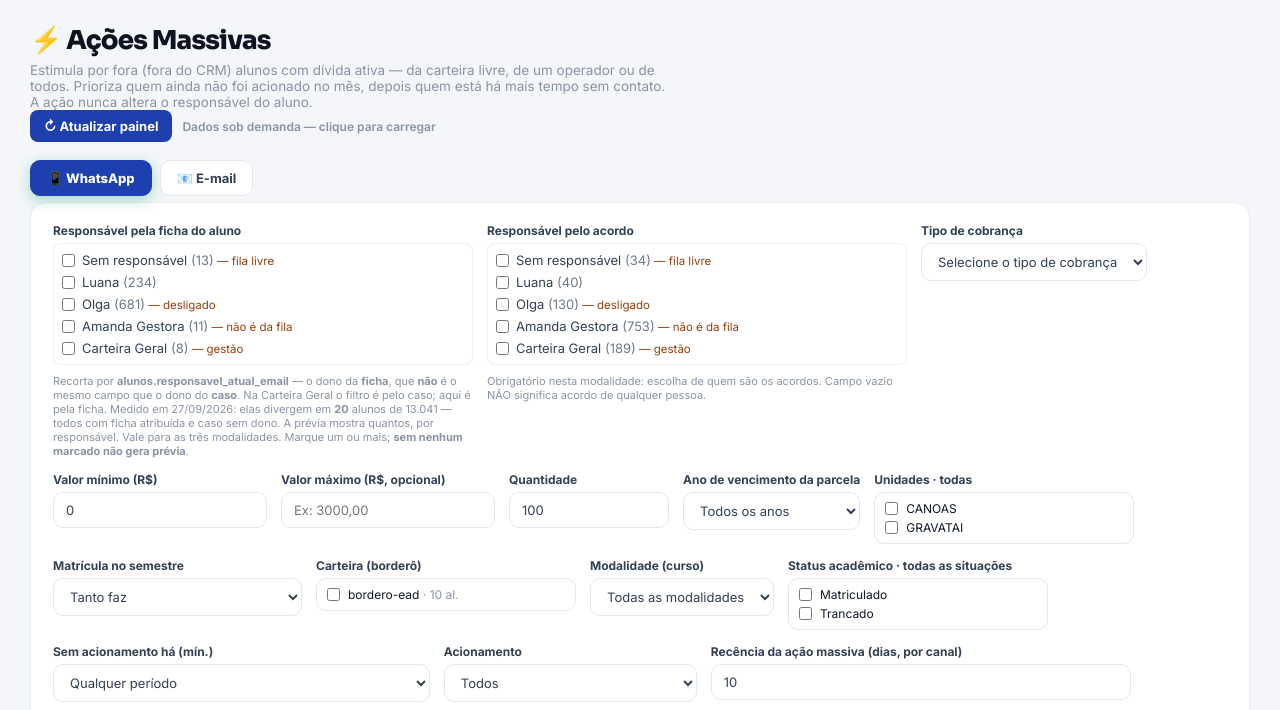
Test case: Ações Massivas — filtro por operador responsável › com operador, a prévia manda o e-mail e mostra qual carteira foi filtrada
The image size is (1280, 710).
Expected: the checkbox labelled "Matriculado" is shown, left=799, top=588, right=812, bottom=601
Expected: the element with test id "resp-caso" is shown, left=53, top=243, right=473, bottom=365
Click the checkbox with id "resp-caso-SEM_RESPONSAVEL": [68, 260] box left=62, top=254, right=75, bottom=266
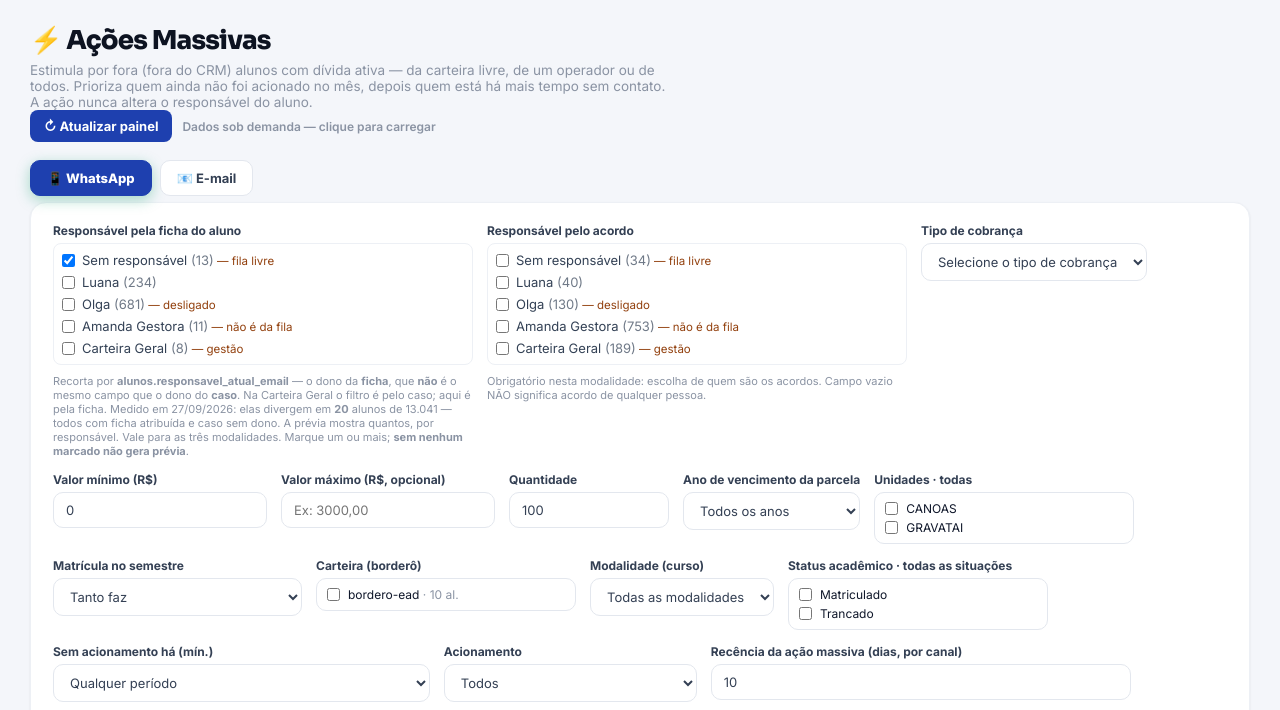
Select "Somente mensalidades" in the dropdown labelled "Tipo de cobrança": [1034, 262] box left=921, top=243, right=1147, bottom=281
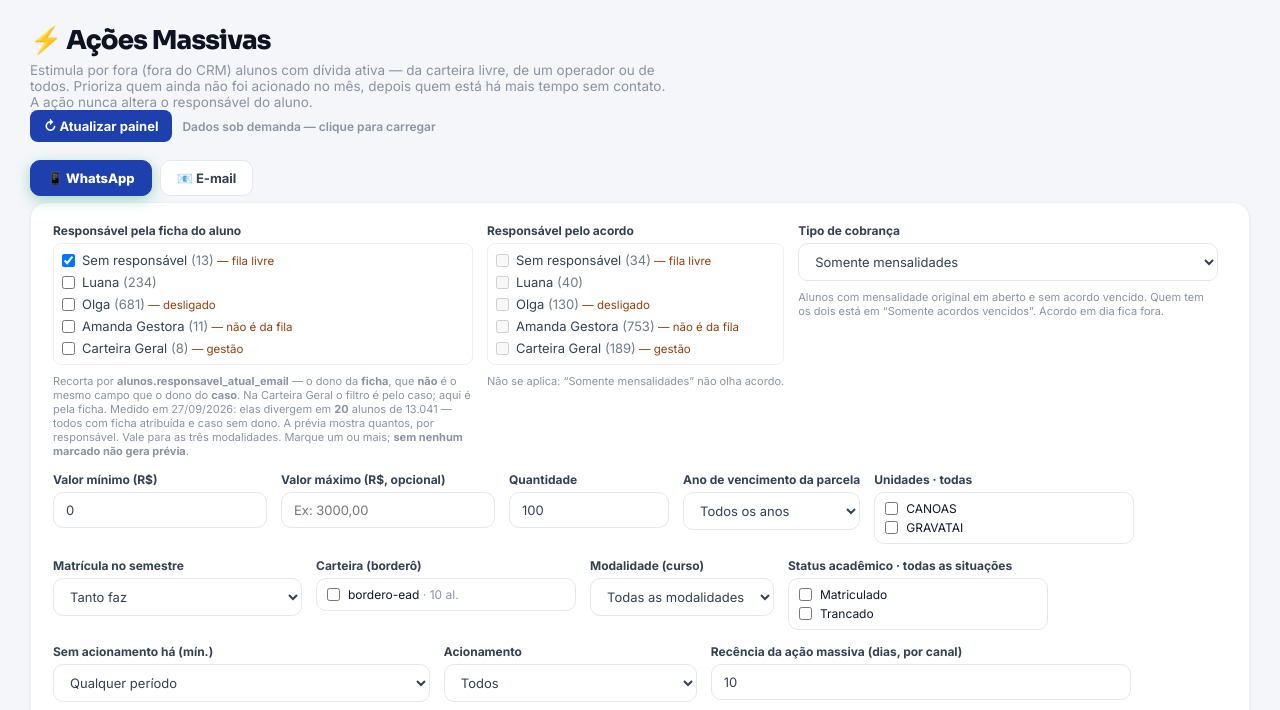
Click the checkbox with id "resp-caso-SEM_RESPONSAVEL": [68, 260] box left=62, top=254, right=75, bottom=266
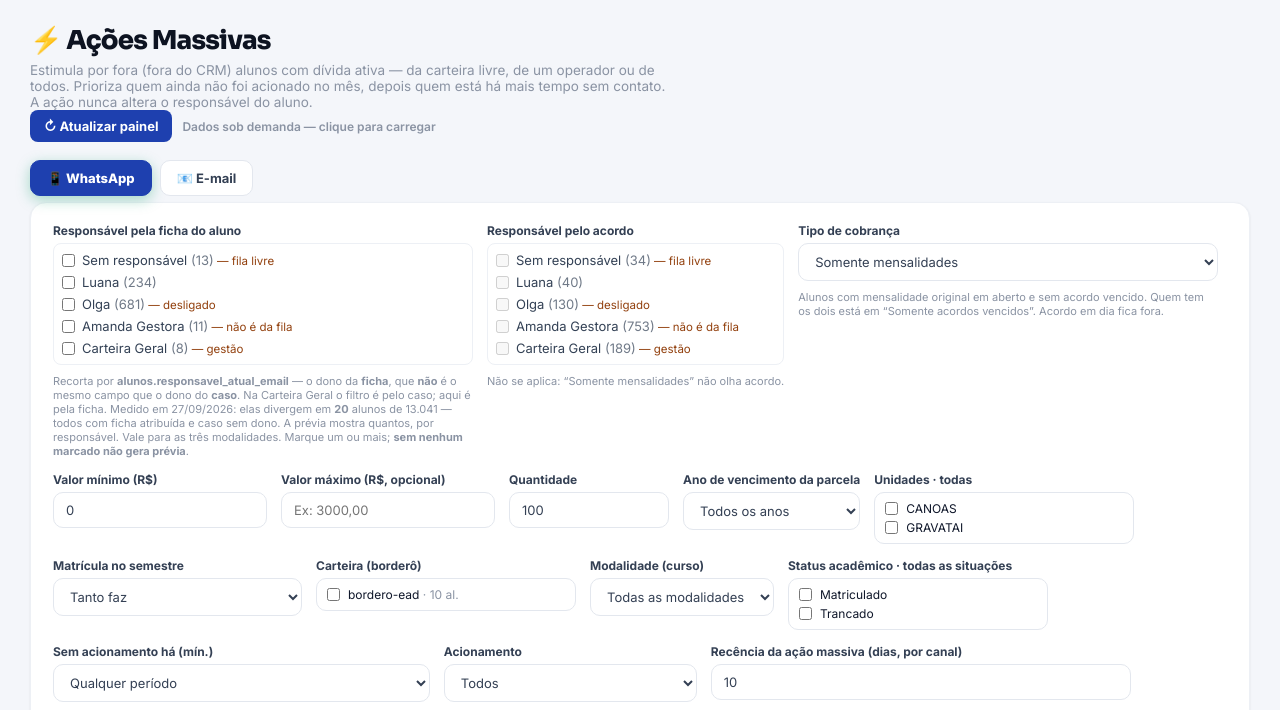
Click the checkbox labelled "Olga (681) — desligado": [68, 304] box left=62, top=298, right=75, bottom=310
(page scrolled)
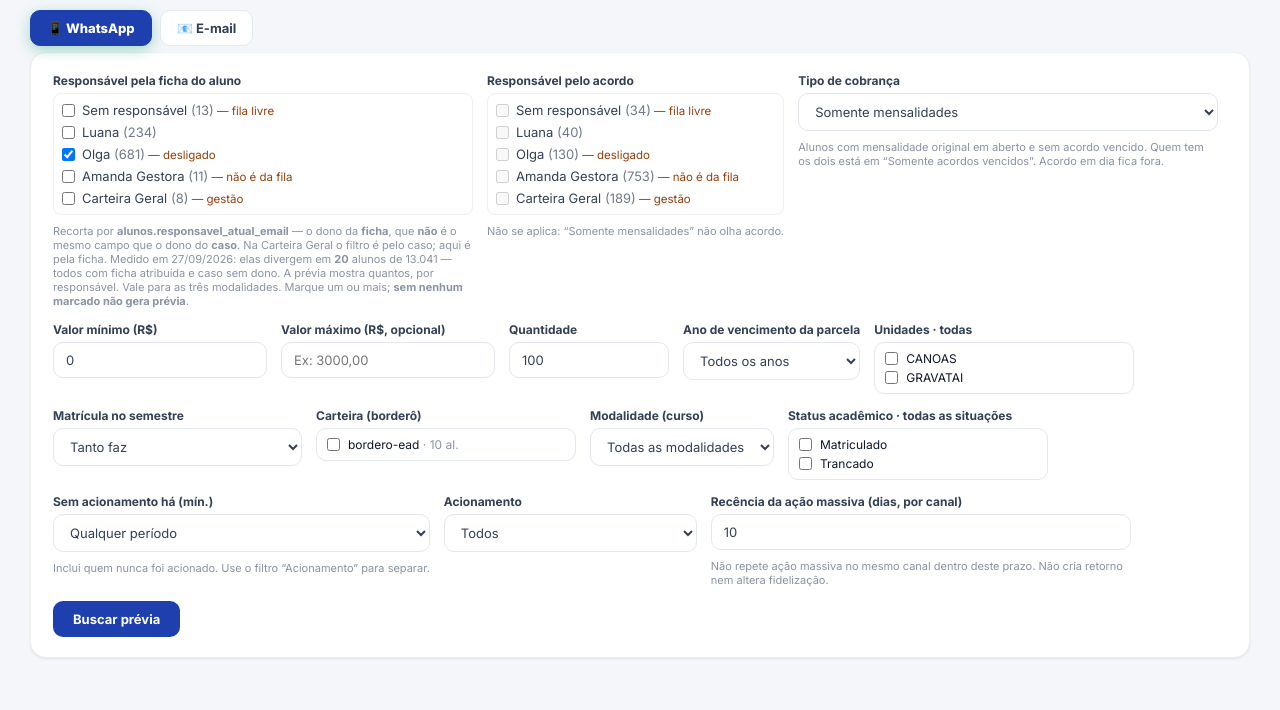
Click the button "Buscar prévia": [117, 619] box left=53, top=601, right=180, bottom=637
(page scrolled)
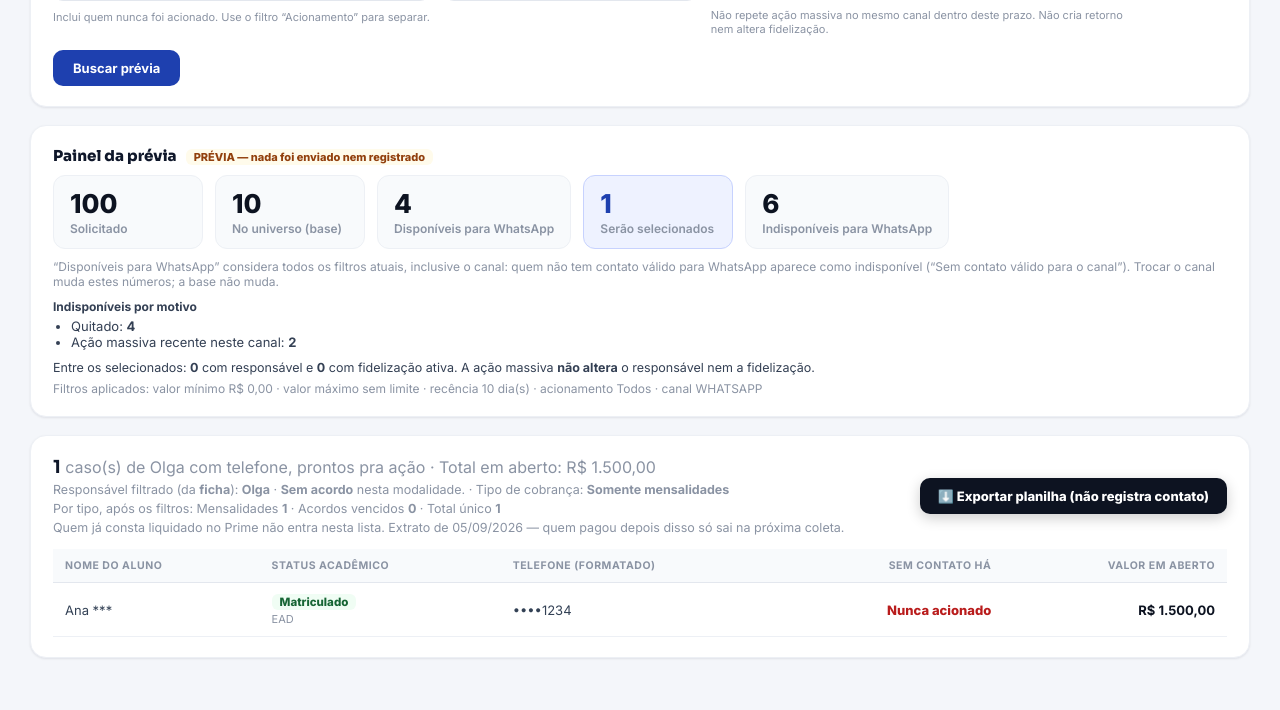
Now the text "Responsável filtrado" shows "Olga", box left=242, top=482, right=270, bottom=497
Now the text "Responsável filtrado" shows "Sem acordo", box left=281, top=482, right=353, bottom=497
Now the text "caso(s) de Olga com telefone, prontos pra ação" is shown, box left=65, top=457, right=425, bottom=477
